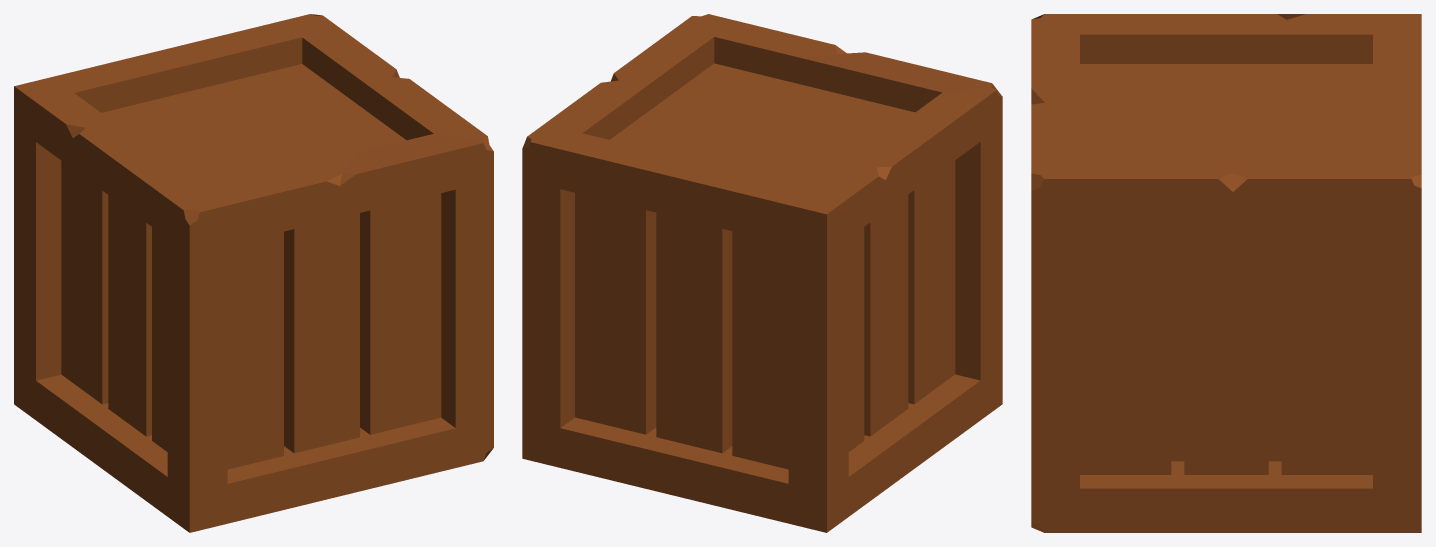
The picture shows the model from 3 angles, left to right: view 1: azimuth 30°, elevation 25°; view 2: azimuth 150°, elevation 25°; view 3: azimuth 270°, elevation 25°; orthographic projection. The views are drawn at different scales.
Visible parts, largest first — view 1: Cube.003; view 2: Cube.003; view 3: Cube.003.
Part boxes in pixels (left/top/right/bottom): Cube.003: left=14, top=14, right=493, bottom=532; Cube.003: left=522, top=14, right=1002, bottom=532; Cube.003: left=1031, top=14, right=1421, bottom=532.
Bounding box in the file's own units: 1.2 × 1.2 × 1.2.
